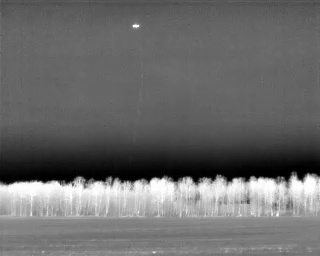DRONE: (129, 20, 143, 33)
